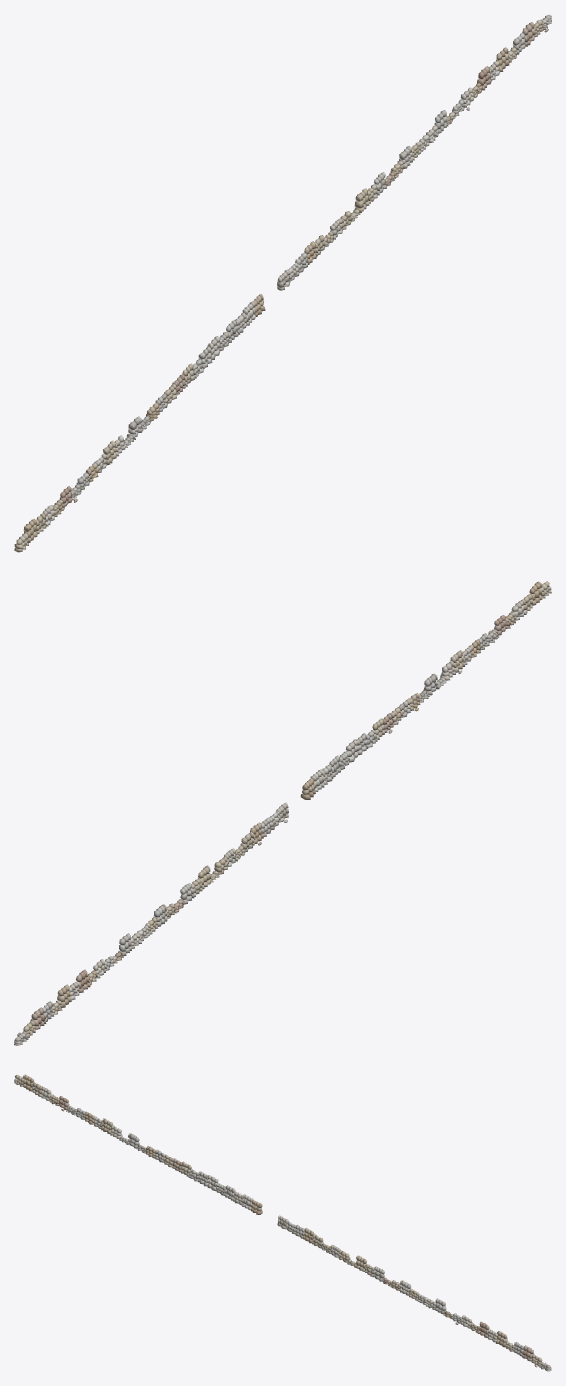
The model's file is farm_-7_7_near.glb.
3 views of the same model, one above another, from view 1: azimuth 30°, elevation 25°; view 2: azimuth 210°, elevation 25°; view 3: azimuth 270°, elevation 25° (orthographic). The views are drawn at different scales.
Visible parts, largest first — view 1: geometry_0; view 2: geometry_0; view 3: geometry_0.
Boxes of the visible parts, x1,y1,x2,y2 form: geometry_0: [14, 14, 551, 552]; geometry_0: [14, 581, 551, 1045]; geometry_0: [14, 1074, 551, 1371].
Bounding box in the file's own units: 78.78 × 4.57 × 56.36.
